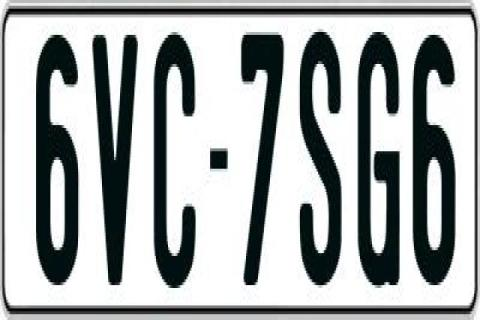0: (241, 29, 290, 297), (34, 35, 82, 299), (412, 29, 454, 279)
C: (150, 35, 194, 303)
G: (356, 26, 402, 291)
S: (298, 32, 342, 294)
V: (92, 27, 140, 286)
